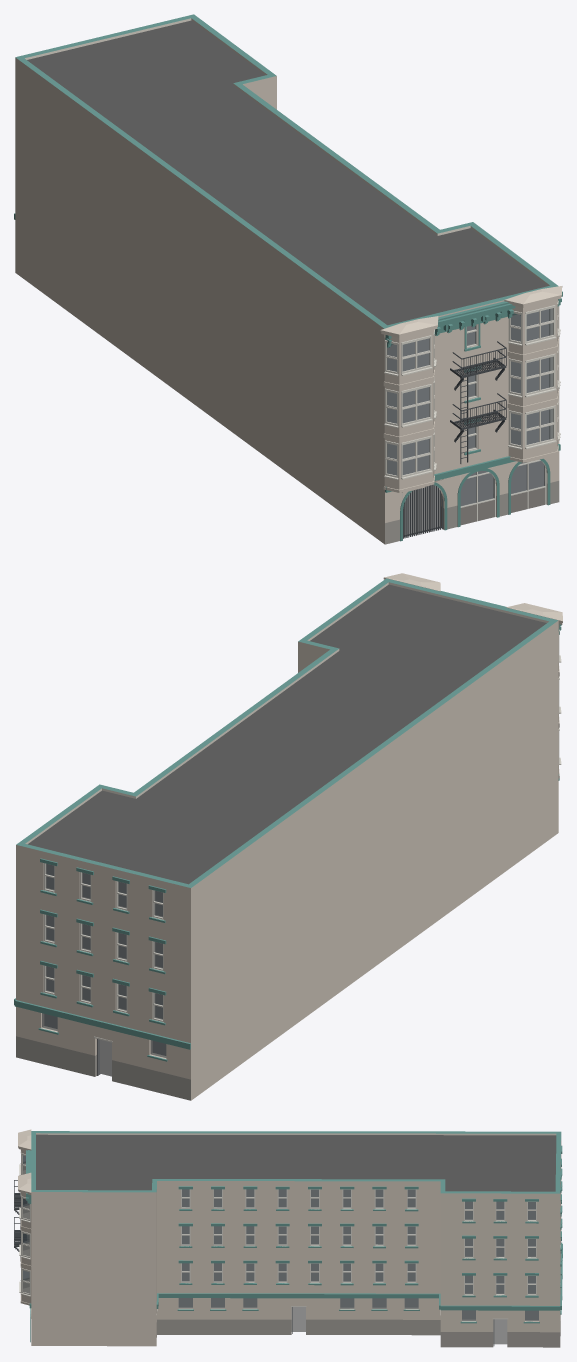
Rendered from exterior.glb.
The picture shows the model from 3 angles, top to bottom: view 1: azimuth 30°, elevation 25°; view 2: azimuth 150°, elevation 25°; view 3: azimuth 270°, elevation 25°; orthographic projection. The views are drawn at different scales.
Parts seen in each view (by area): view 1: shell, roof, bay-glazing-hyb, shadow-proxy, bay-windows-hyb, storefront, fire-escape, glazing, trim, hyC-arches-1; view 2: shell, roof, trim, glazing, shadow-proxy, frames, bay-windows-hyb; view 3: shell, roof, glazing, trim, shadow-proxy, frames, bay-windows-hyb, bay-glazing-hyb, fire-escape.
Part boxes in pixels (box(x1,y1,x2,y2)): shell: box(15, 14, 559, 544); roof: box(27, 20, 547, 325); bay-glazing-hyb: box(384, 300, 560, 479); shadow-proxy: box(387, 309, 548, 534); bay-windows-hyb: box(380, 286, 562, 492); storefront: box(403, 459, 546, 538); fire-escape: box(450, 341, 506, 463); glazing: box(460, 326, 544, 506); trim: box(14, 213, 562, 492); hyC-arches-1: box(400, 323, 550, 541); shell: box(16, 578, 558, 1100); roof: box(28, 584, 546, 884); trim: box(14, 591, 561, 1061); glazing: box(42, 864, 166, 1057); shadow-proxy: box(44, 864, 165, 1076); frames: box(43, 863, 163, 1021); bay-windows-hyb: box(383, 573, 562, 778); shell: box(31, 1131, 561, 1347); roof: box(36, 1134, 556, 1191); glazing: box(178, 1189, 538, 1321); trim: box(26, 1145, 562, 1323); shadow-proxy: box(179, 1189, 538, 1344); frames: box(181, 1189, 536, 1295); bay-windows-hyb: box(18, 1129, 31, 1305); bay-glazing-hyb: box(19, 1150, 30, 1296); fire-escape: box(14, 1180, 26, 1261).
Bounding box in the file's own units: 10.88 × 12.16 × 38.96.
